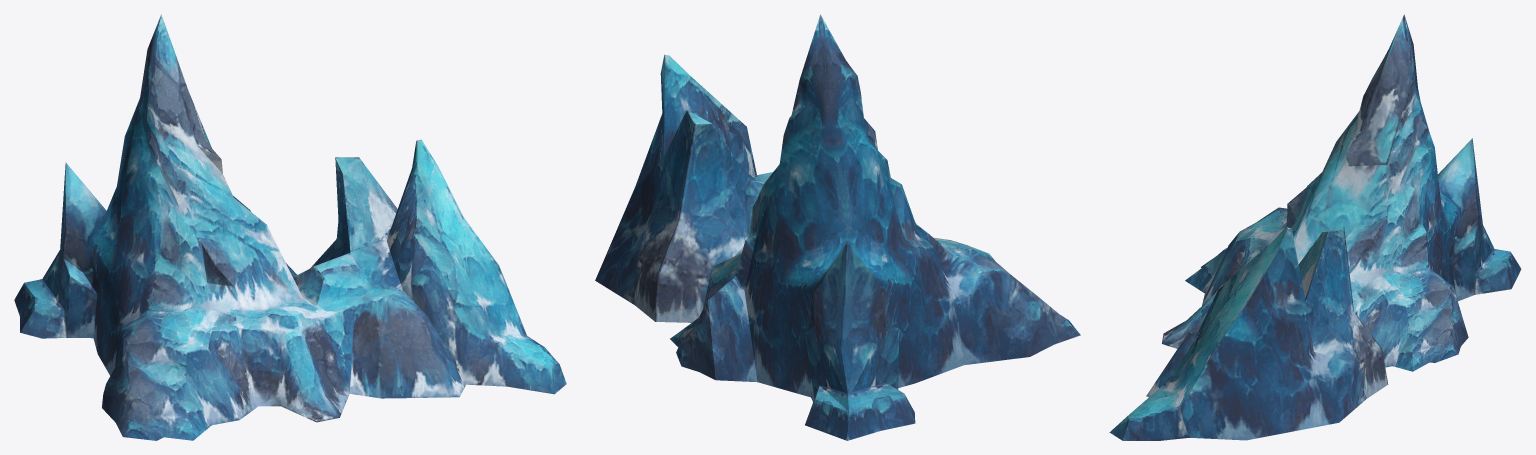
Rendered from 5013_Item_shitou_3.FBX.
3 renders of one model, left to right at view 1: azimuth 30°, elevation 25°; view 2: azimuth 150°, elevation 25°; view 3: azimuth 270°, elevation 25°, orthographic. The views are drawn at different scales.
Parts seen in each view (by area): view 1: 5013_Item_shitou_3; view 2: 5013_Item_shitou_3; view 3: 5013_Item_shitou_3.
Part boxes in pixels (x1,y1,x2,y2): 5013_Item_shitou_3: (14, 14, 566, 440); 5013_Item_shitou_3: (595, 14, 1080, 440); 5013_Item_shitou_3: (1109, 14, 1521, 440).
Bounding box in the file's own units: 2079 × 1619 × 1961.
